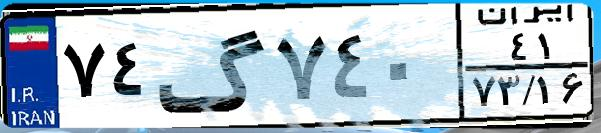0: (385, 28, 445, 110)
1: (537, 27, 568, 80), (535, 70, 560, 125)
3: (495, 70, 520, 125)
4: (330, 28, 385, 110), (110, 28, 156, 98), (508, 27, 537, 80)
6: (560, 70, 590, 125)
7: (270, 28, 330, 110), (57, 26, 110, 100), (470, 70, 495, 125)
گ: (156, 12, 270, 120)
